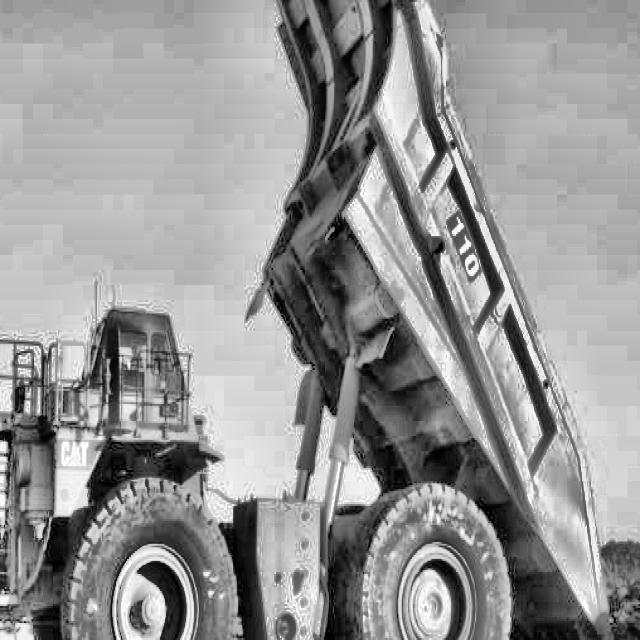dump_truck: (0, 0, 629, 640)
